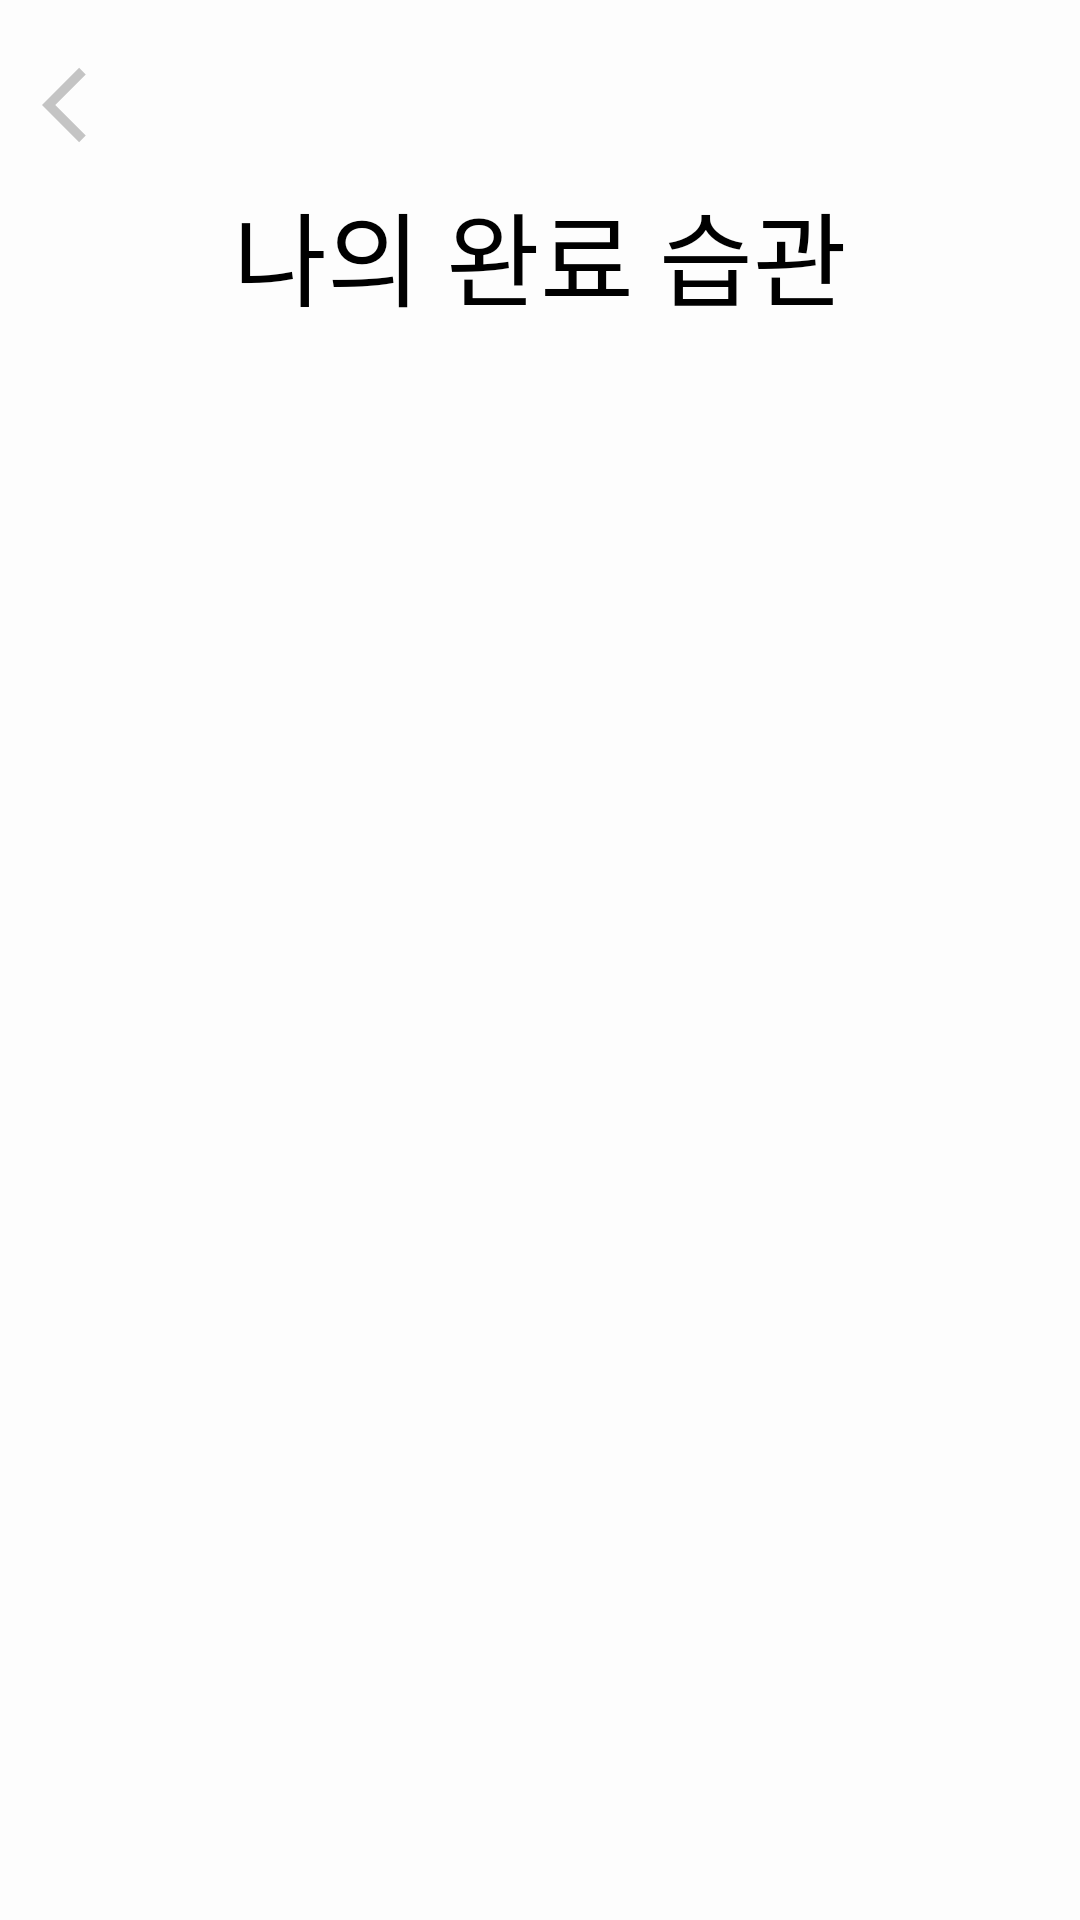

Screen size 1080px x 1920px. Icon name, then its center in pixels as point (x, y):
back: point (64, 105)
